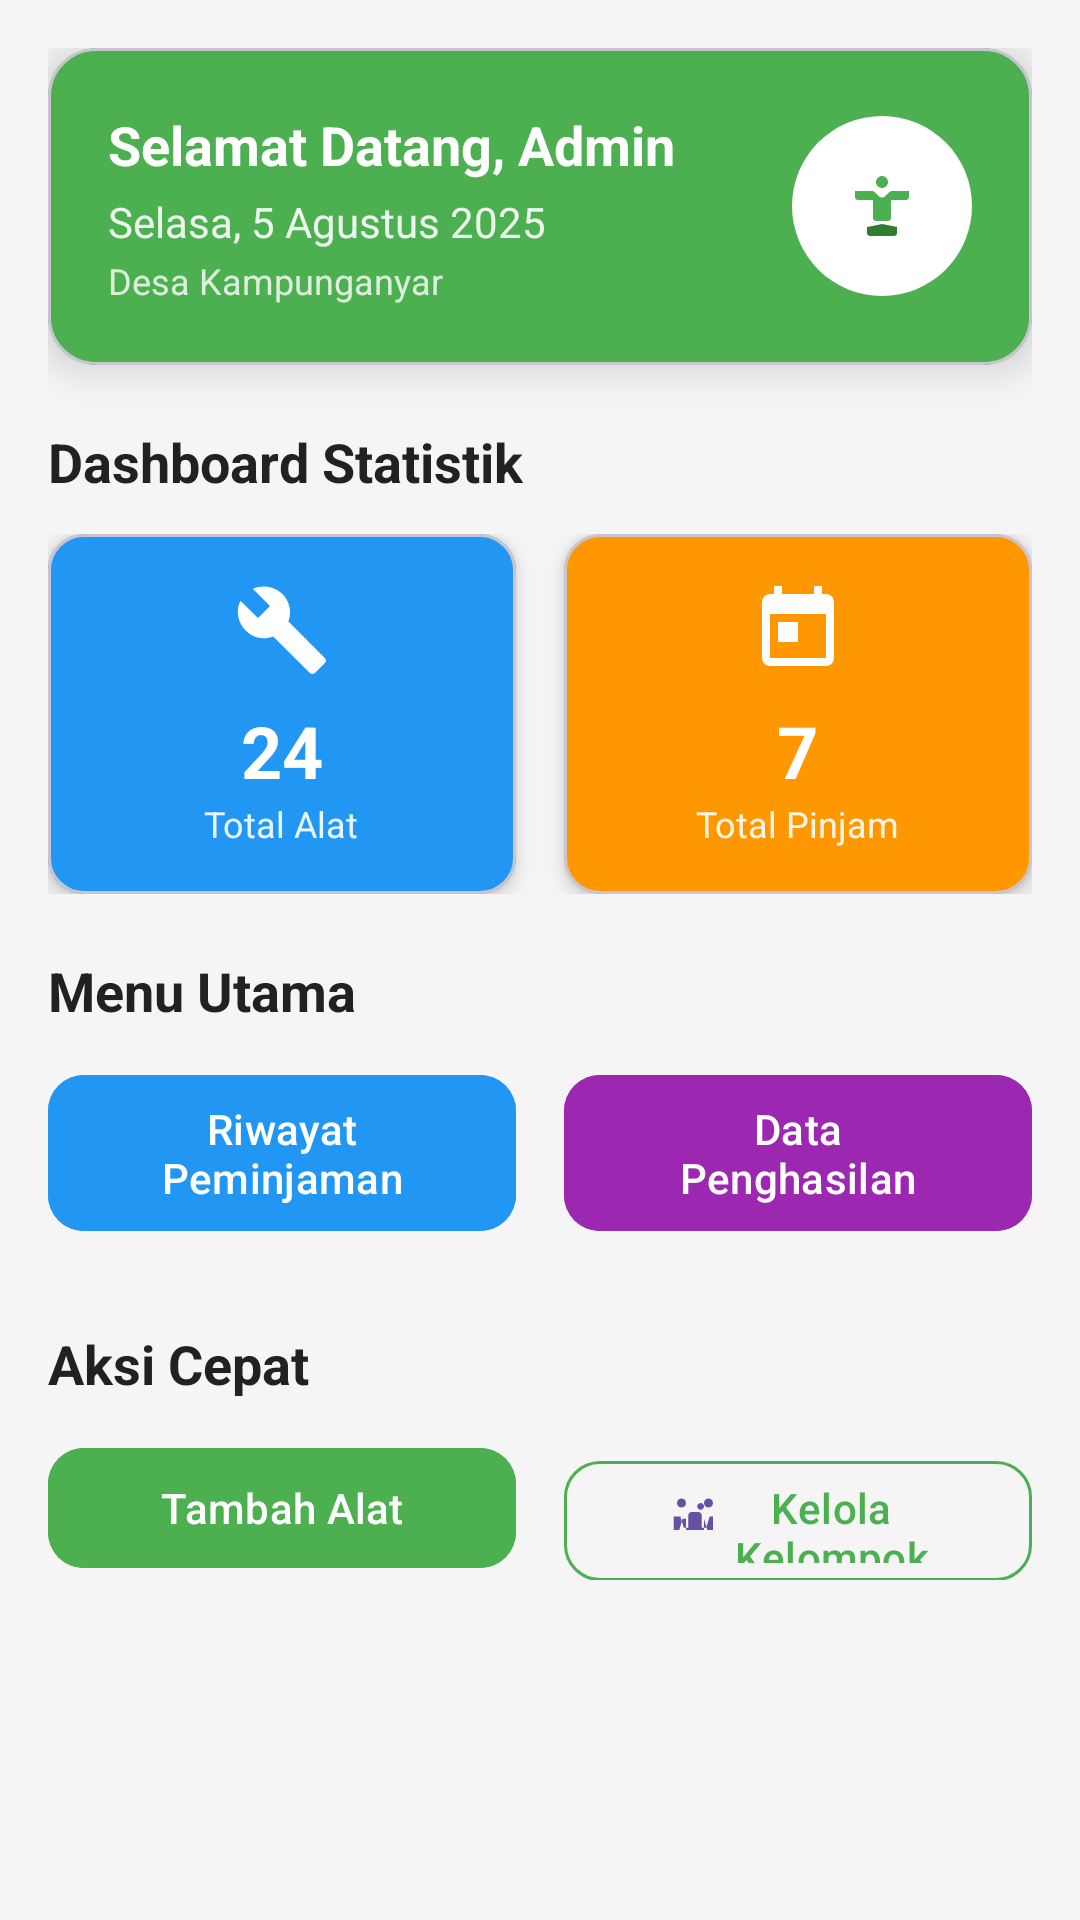

Icons on this 1080*1920 Android screen, each with its box as {"x1": x1, "y1": y1, "x2": x2, "y2": y2}:
calendar today: {"x1": 762, "y1": 586, "x2": 834, "y2": 666}
tools: {"x1": 237, "y1": 586, "x2": 326, "y2": 674}
